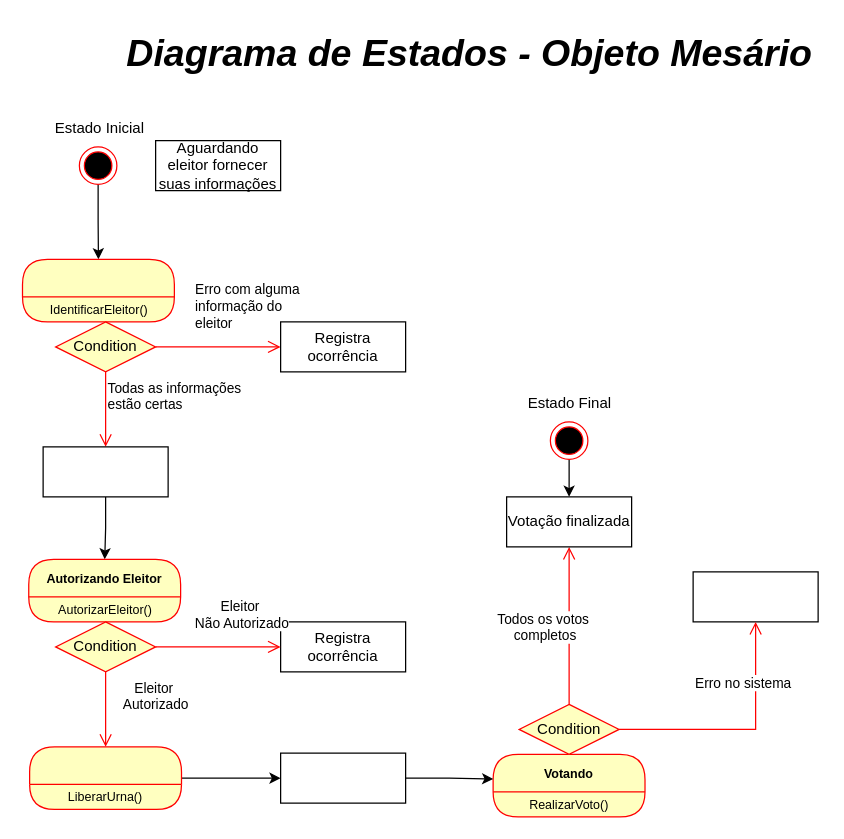
This 844x839 diagram has some shape labels left out. Here are the shapes that lost their labels. From the top down, the box of each, then its label:
(21, 258, 174, 322): Identificação Eleitor
(42, 446, 168, 497): Mesário identifica eleitor
(692, 571, 818, 622): Aguarda suporte técnico
(28, 746, 182, 809): Liberando Urna
(279, 752, 406, 803): Urna liberada
